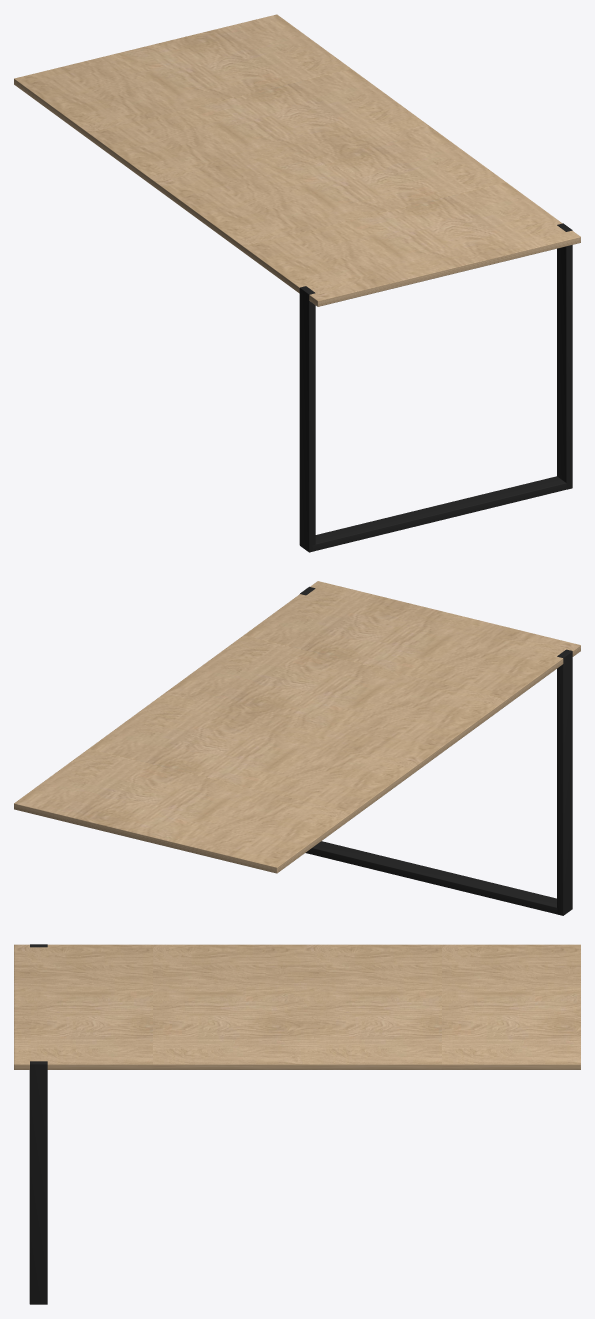
Rendered from Stol_Kuhnya2.glb.
3 renders of one model, top to bottom at view 1: azimuth 30°, elevation 25°; view 2: azimuth 150°, elevation 25°; view 3: azimuth 270°, elevation 25°, orthographic. The views are drawn at different scales.
Visible parts, largest first — view 1: Box005, Box006, Box009, Box007; view 2: Box005, Box006, Box009; view 3: Box005, Box007.
Boxes of the visible parts, bbox=[...] form: Box005: bbox=[14, 14, 580, 306]; Box006: bbox=[299, 286, 315, 552]; Box009: bbox=[312, 476, 566, 551]; Box007: bbox=[557, 223, 572, 489]; Box005: bbox=[14, 581, 580, 873]; Box006: bbox=[557, 649, 572, 915]; Box009: bbox=[306, 841, 557, 914]; Box005: bbox=[14, 944, 580, 1069]; Box007: bbox=[29, 1061, 47, 1304].
Size of the model in its own units: 0.8013 by 0.75 by 1.6.
Materials: 2 (1 with a texture image).
